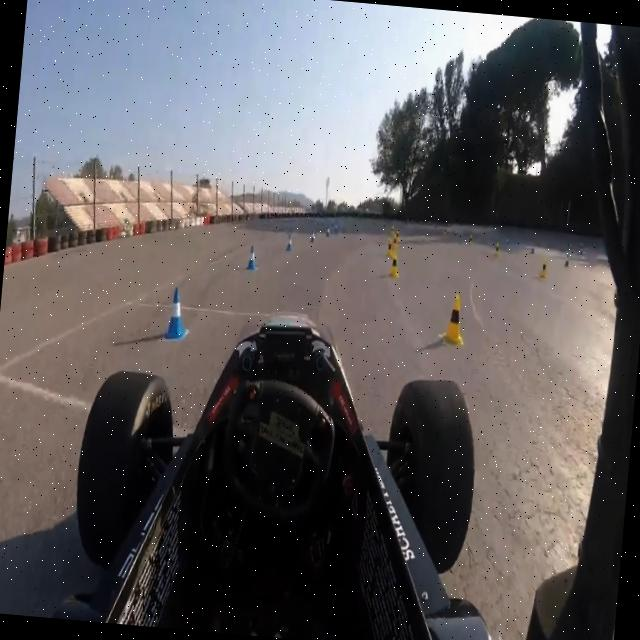blue_cone: (162, 281, 192, 345), (246, 240, 259, 271), (284, 230, 293, 253), (310, 227, 317, 244), (324, 223, 330, 240), (333, 224, 337, 234)
yellow_cone: (440, 293, 470, 350), (387, 253, 401, 277), (539, 260, 548, 281), (386, 238, 394, 260), (494, 238, 501, 259), (392, 234, 398, 250), (394, 228, 400, 242), (468, 231, 473, 247), (390, 224, 395, 236)
